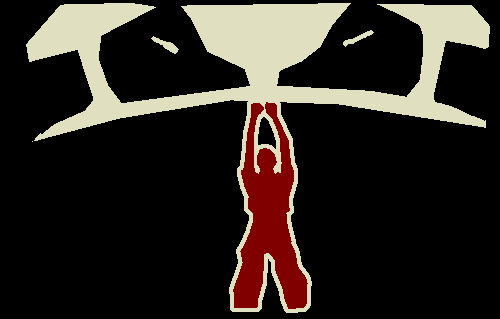person: (229, 99, 318, 311)
person/hand: (265, 101, 281, 118), (249, 101, 265, 116)
person/head: (256, 147, 279, 174)
